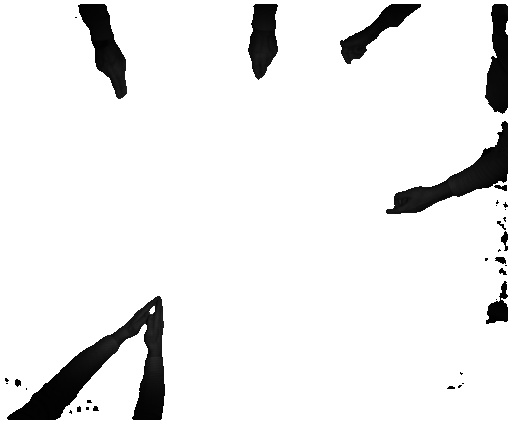fist: (336, 32, 372, 63)
hand: (94, 48, 127, 103), (384, 184, 431, 215), (248, 32, 279, 79)
spine: (114, 297, 158, 341), (146, 296, 167, 356)
